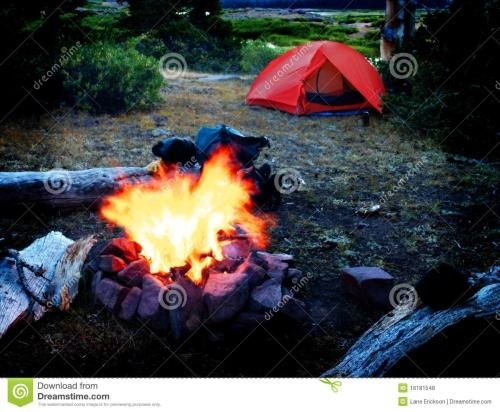fire: (102, 143, 272, 281)
